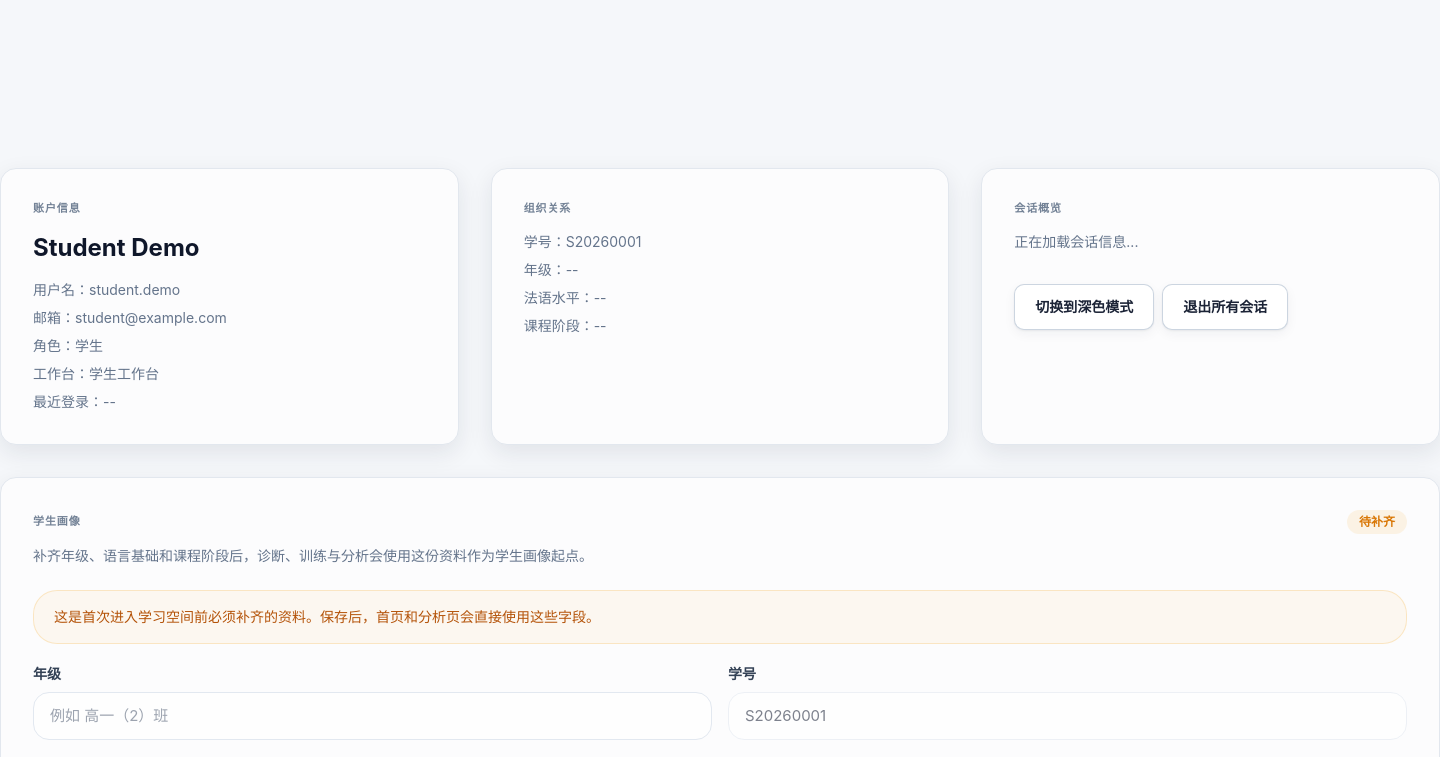
Test case: SettingsPage student profile editor › saves the student profile and syncs the stored session
The width and height of the screenshot is (1440, 757).
Type "高一（2）班" into the field with placeholder "例如 高一（2）班" at (372, 716), box 33,692 -> 712,740
(page scrolled)
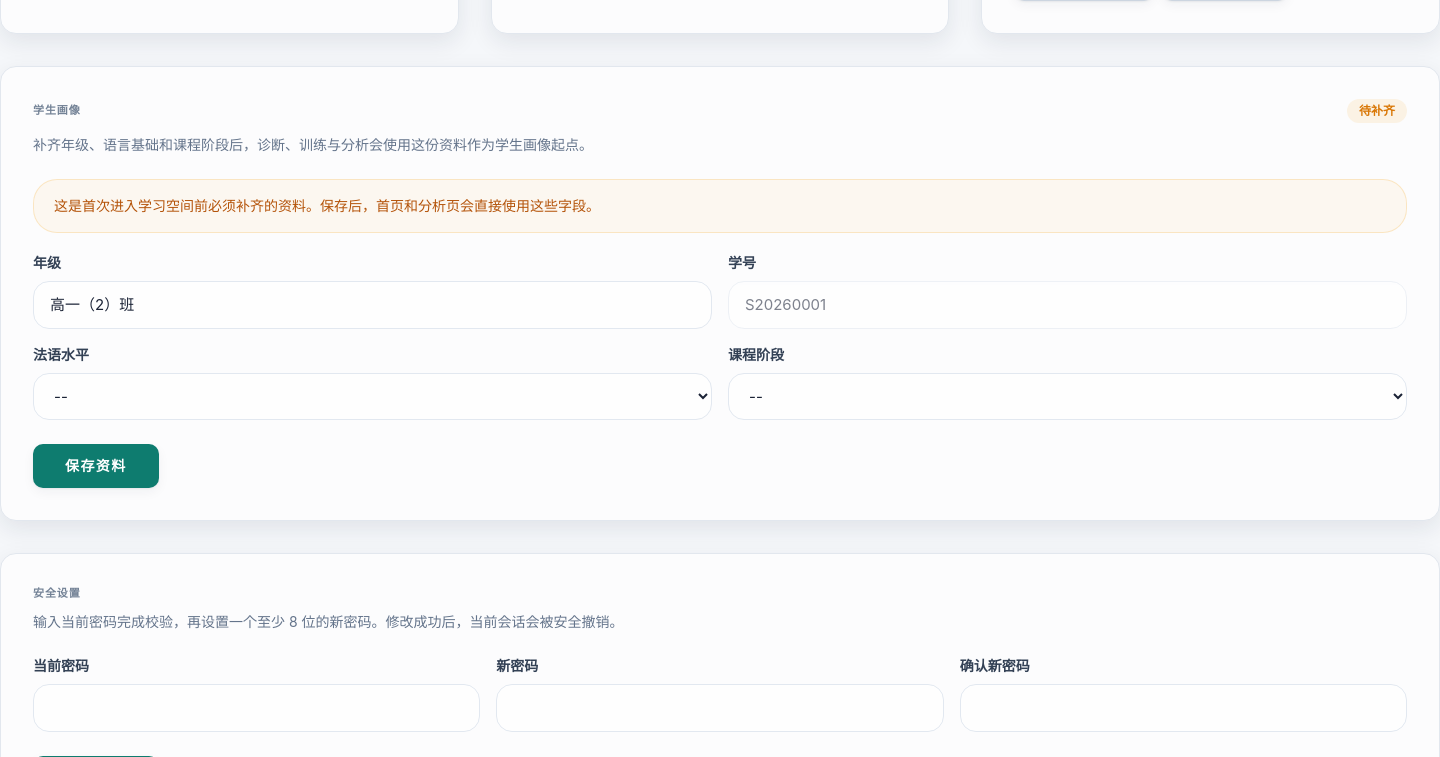
Select "A2" in the dropdown labelled "法语水平" at (372, 396), box 33,372 -> 712,420
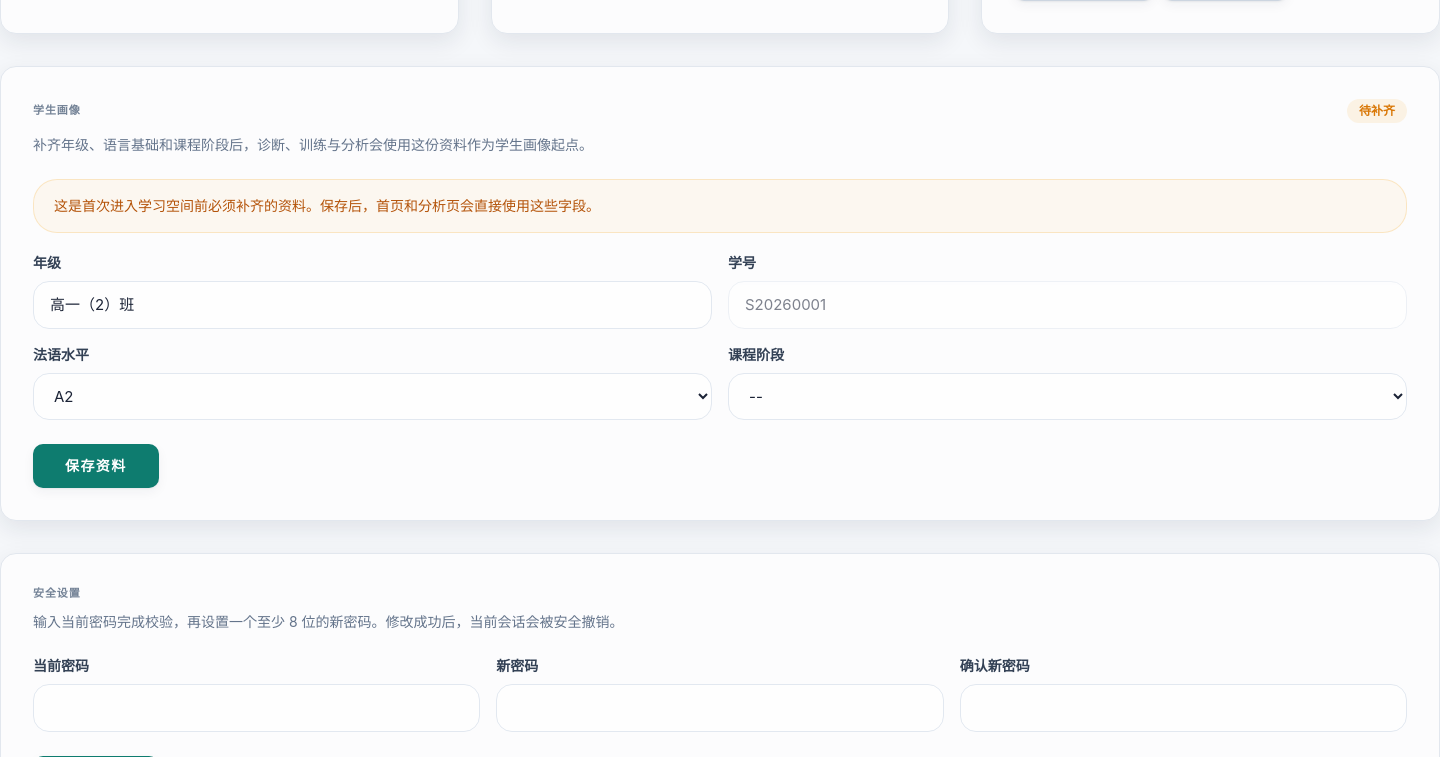
Select "进阶阶段" in the dropdown labelled "课程阶段" at (1068, 396), box 728,372 -> 1407,420
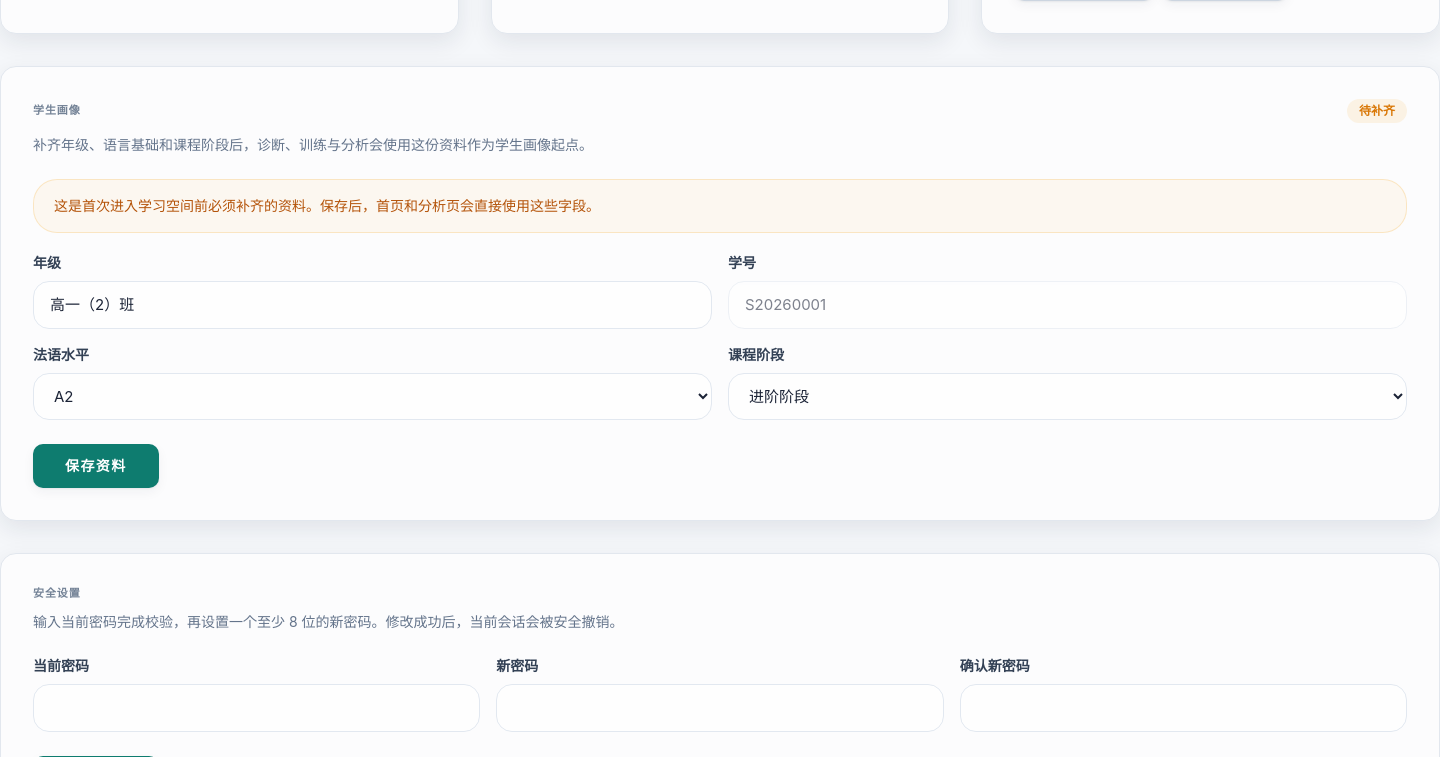
Click the button "保存资料" at (96, 466), box 33,444 -> 159,488
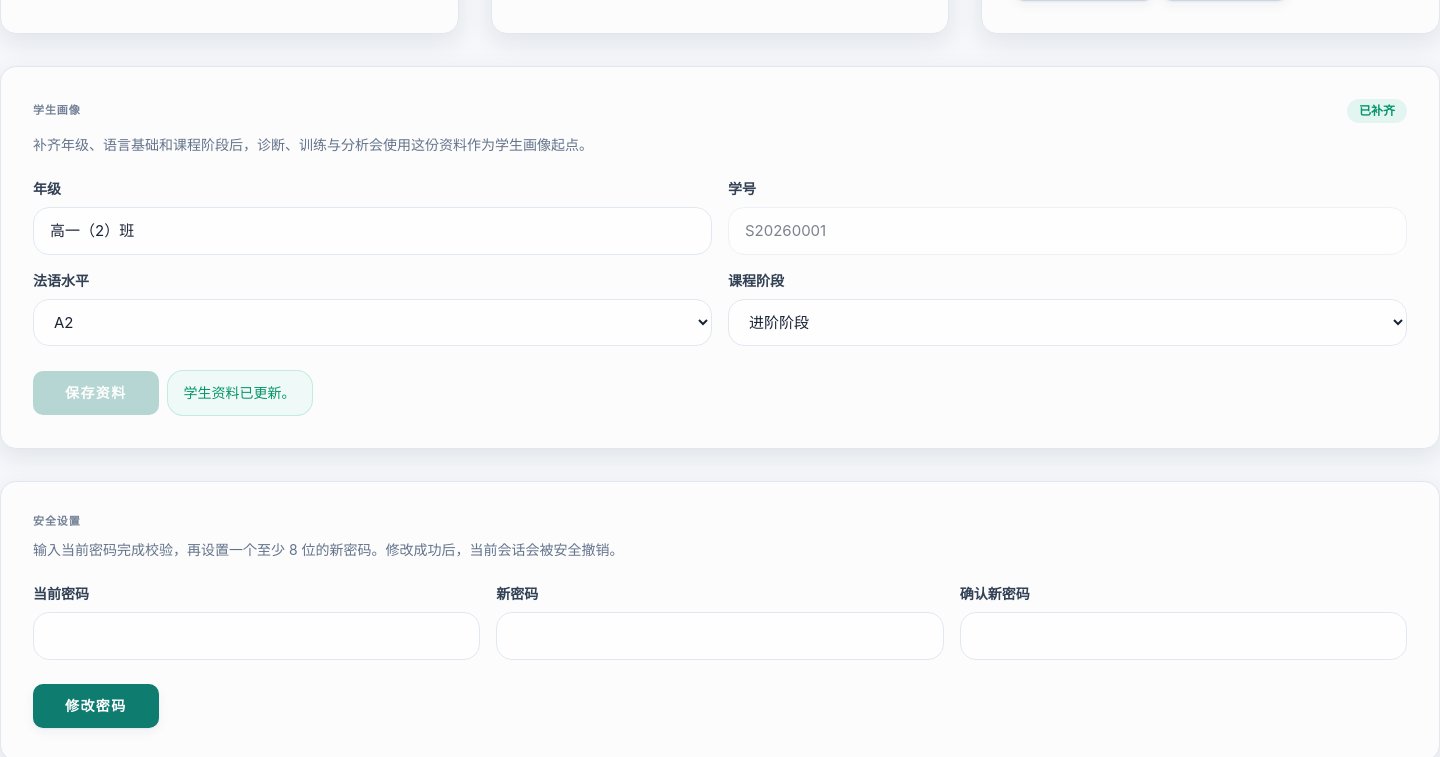
Check: the text "学生资料已更新。" is shown, box 167,370 -> 313,416
